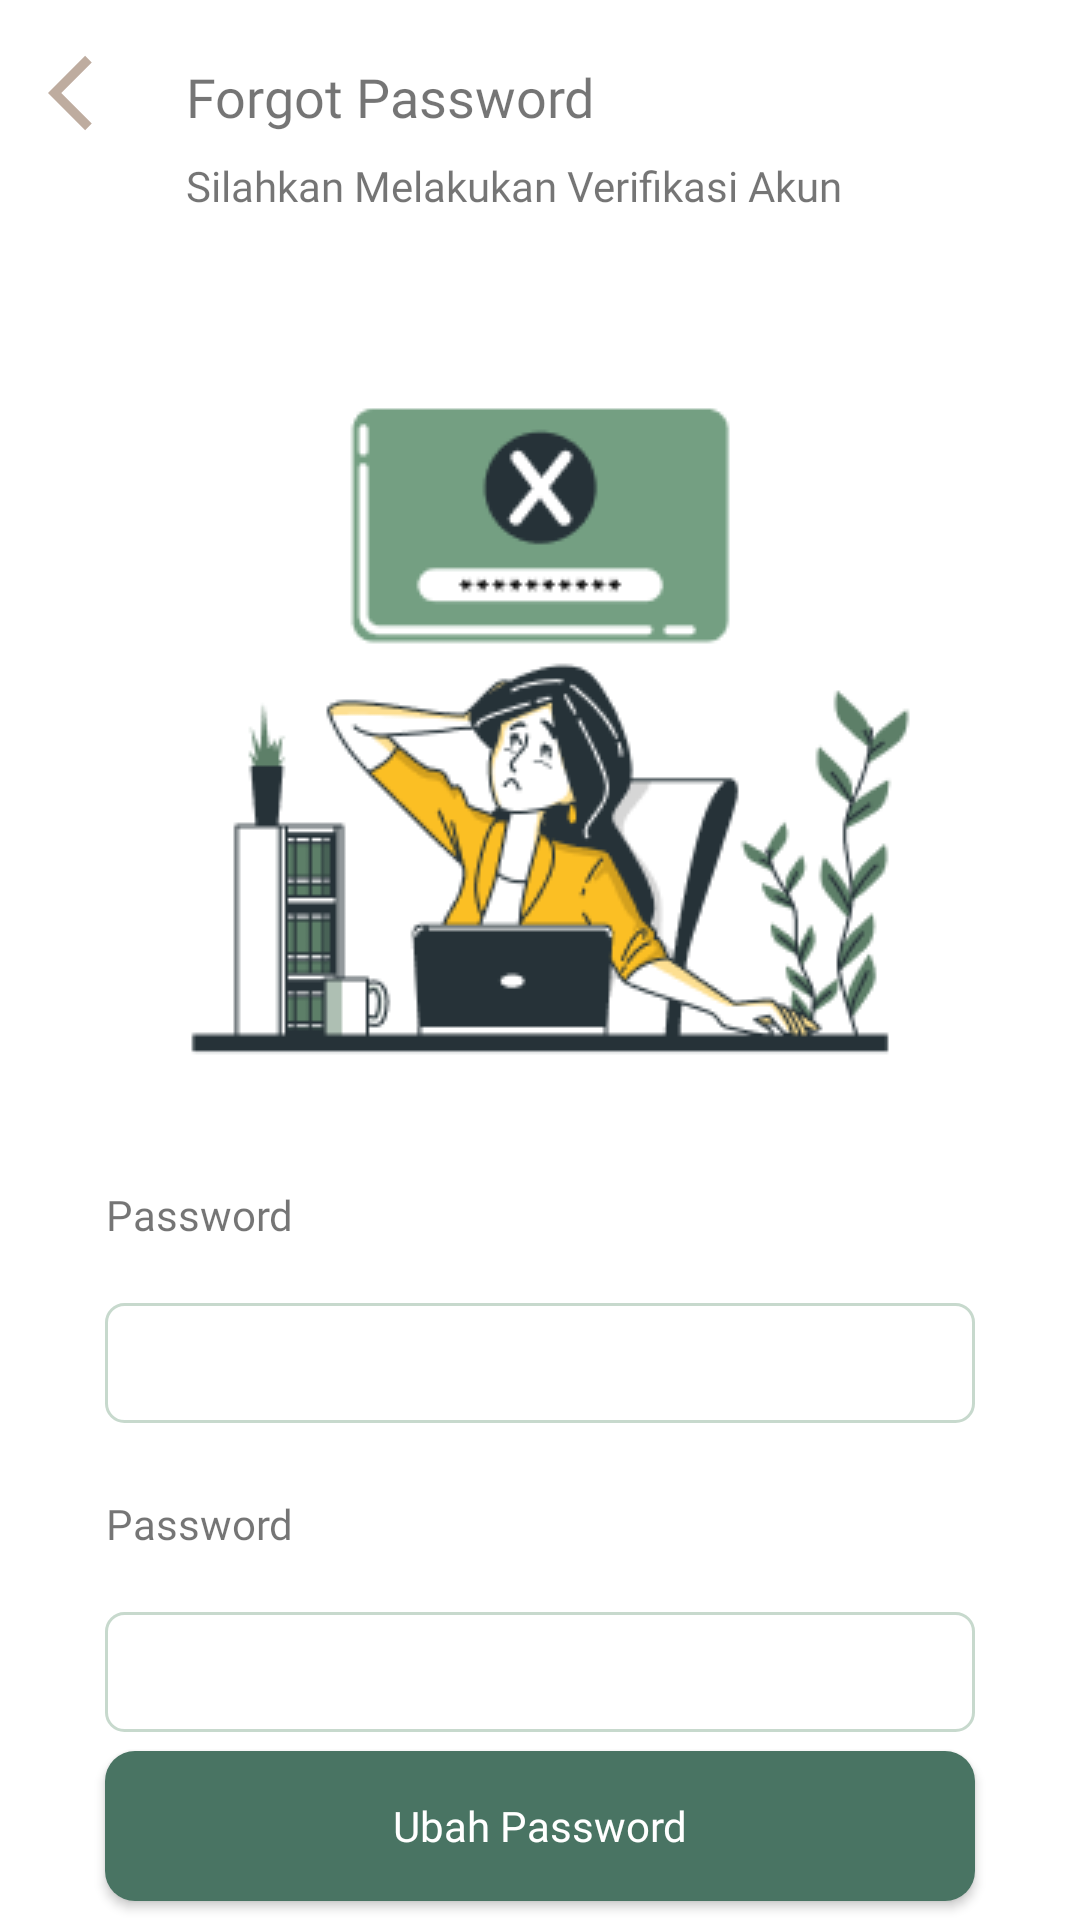

Locate icon controls on the screen. Image size 1080x1920, boxes as (x1, y1, x2, y2).
arrow back: (48, 56, 92, 130)
